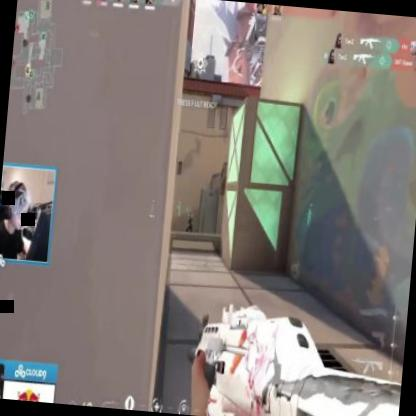enemy: (186, 209, 196, 233)
enemy_head: (189, 209, 193, 215)
